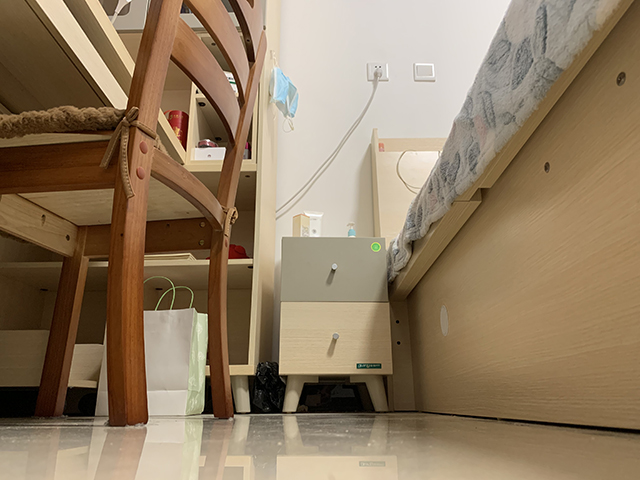bed: (368, 1, 640, 437)
cabinet: (1, 1, 279, 417), (276, 234, 393, 415)
stool: (1, 1, 270, 428)
